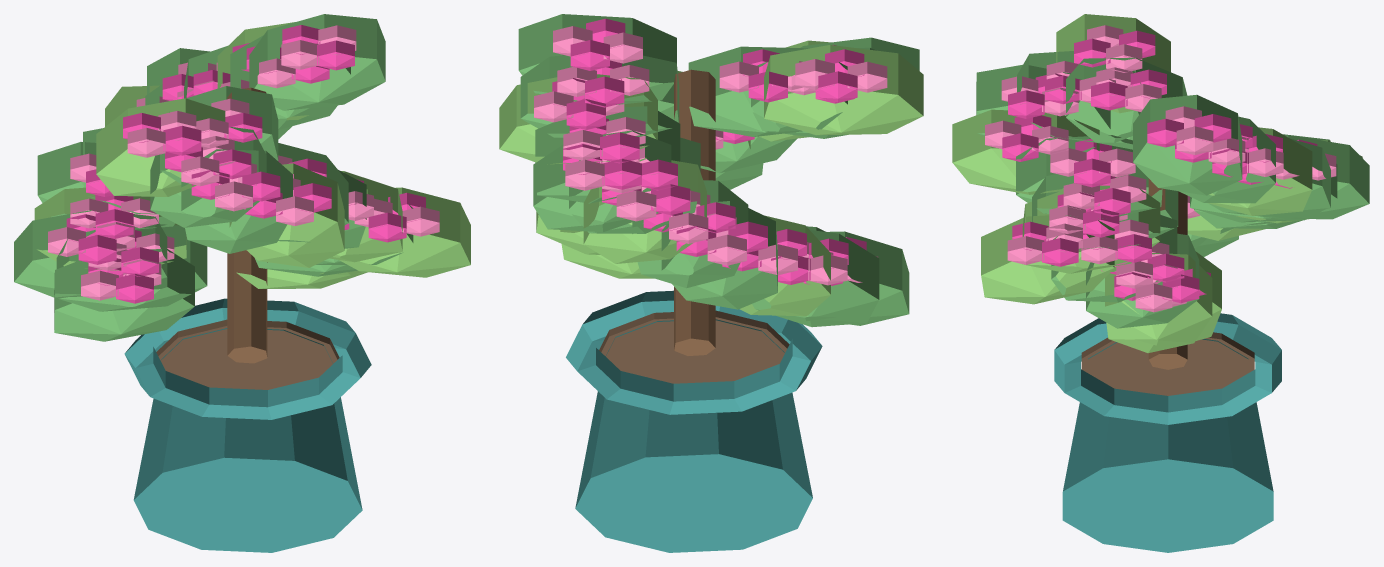
Rendered from plant_pink.glb.
3 renders of one model, left to right at view 1: azimuth 30°, elevation 25°; view 2: azimuth 150°, elevation 25°; view 3: azimuth 270°, elevation 25°, orthographic. The views are drawn at different scales.
Parts seen in each view (by area): view 1: plant_pink; view 2: plant_pink; view 3: plant_pink.
Boxes of the visible parts, x1,y1,x2,y2 form: plant_pink: (14, 14, 470, 552); plant_pink: (499, 14, 923, 552); plant_pink: (952, 14, 1369, 552).
Size of the model in its own units: 0.903 by 1.09 by 0.9408.
